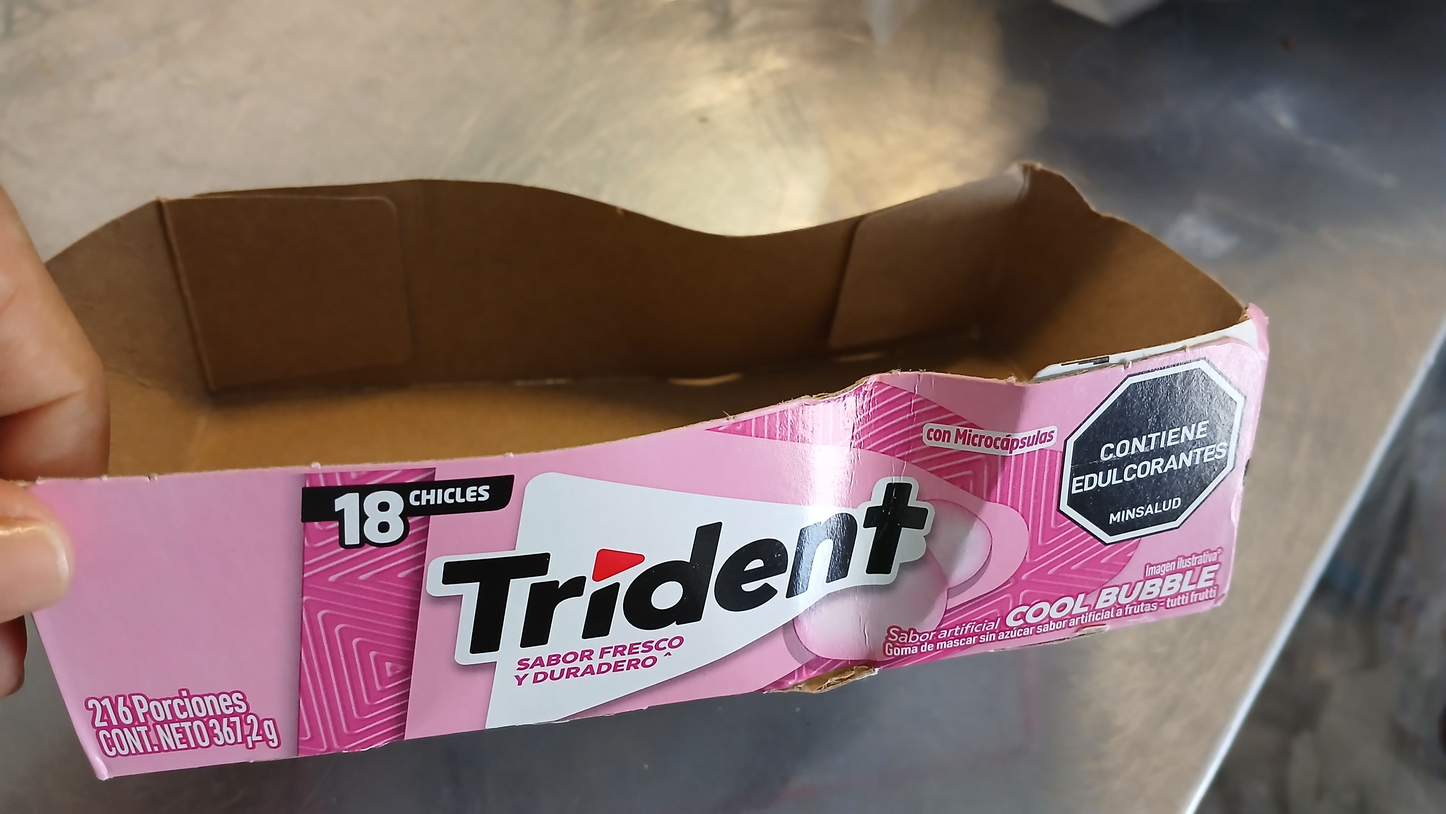Carton: (13, 160, 1270, 782)
